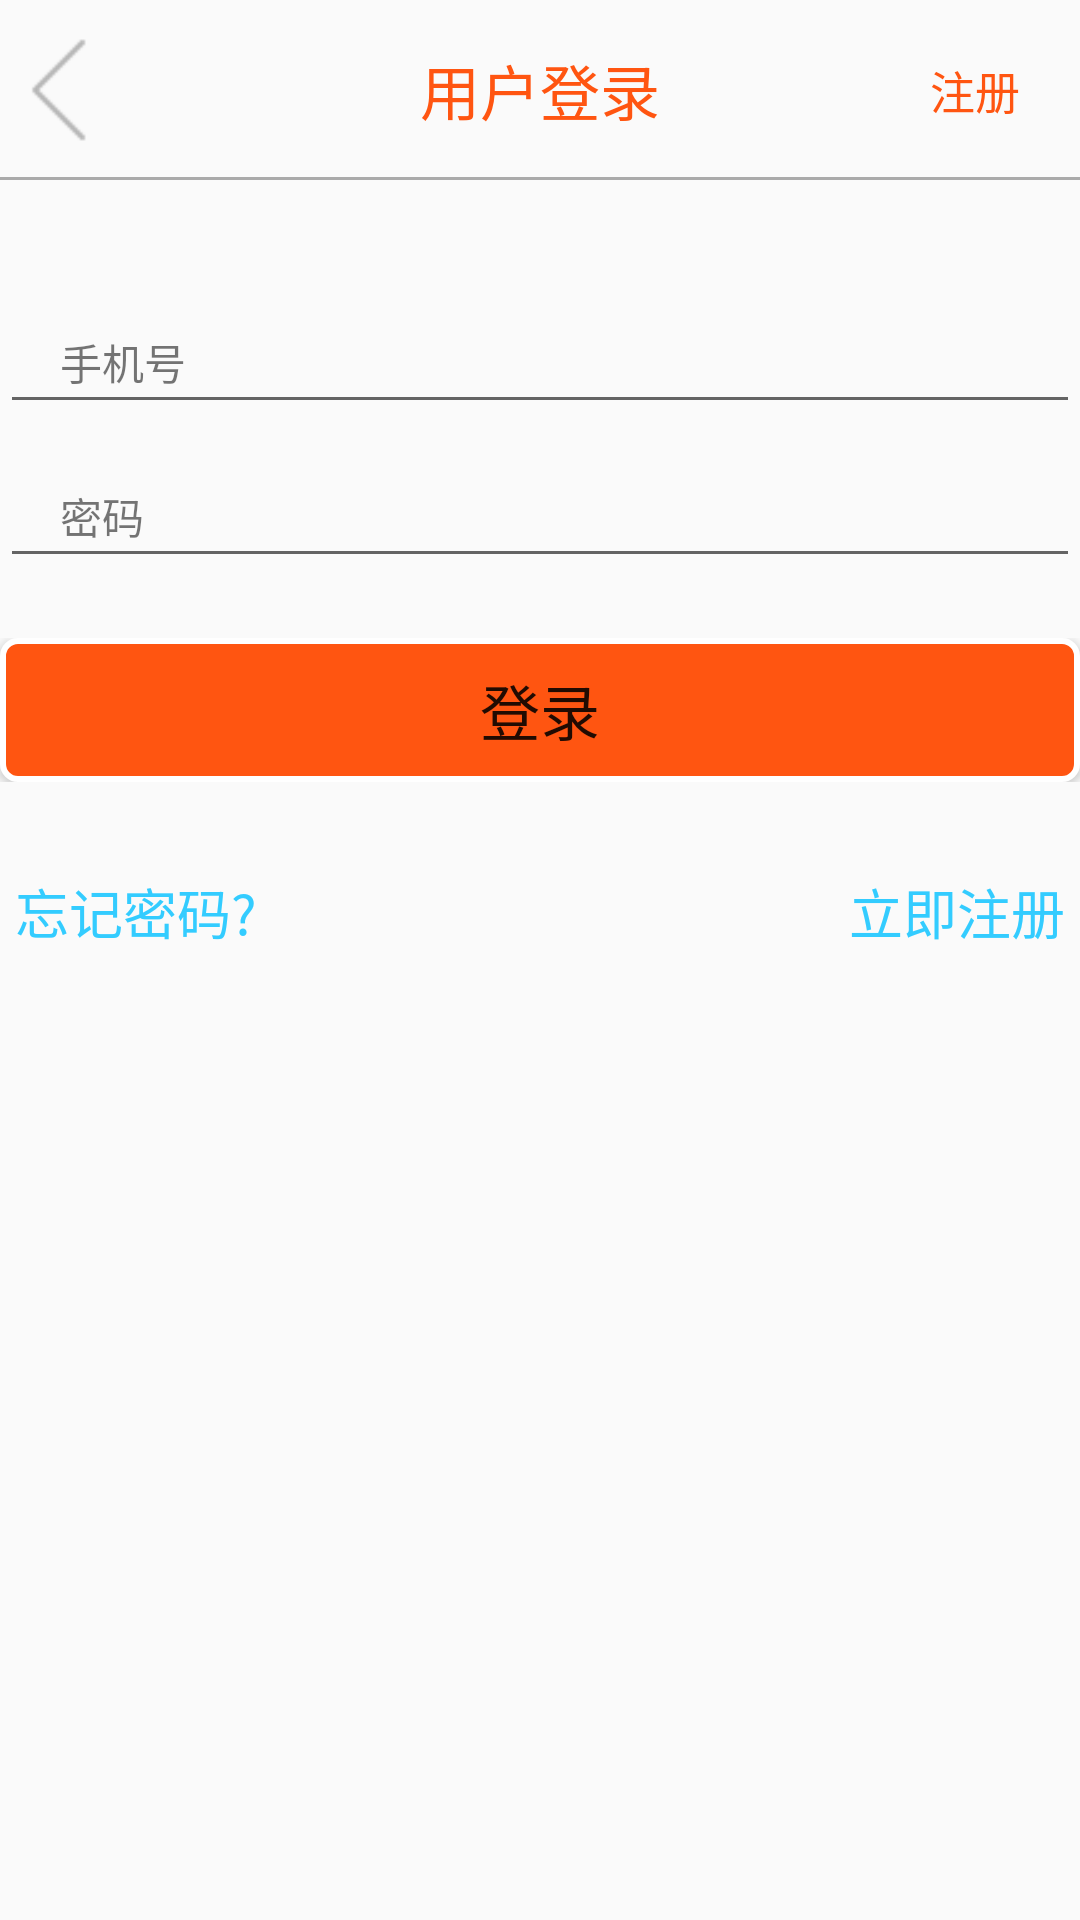

Locate icon controls on the screen. Image size 1080px x 1920px, boxes as (x1, y1, x2, y2).
leftbackicon titlebar: (32, 40, 85, 140)
